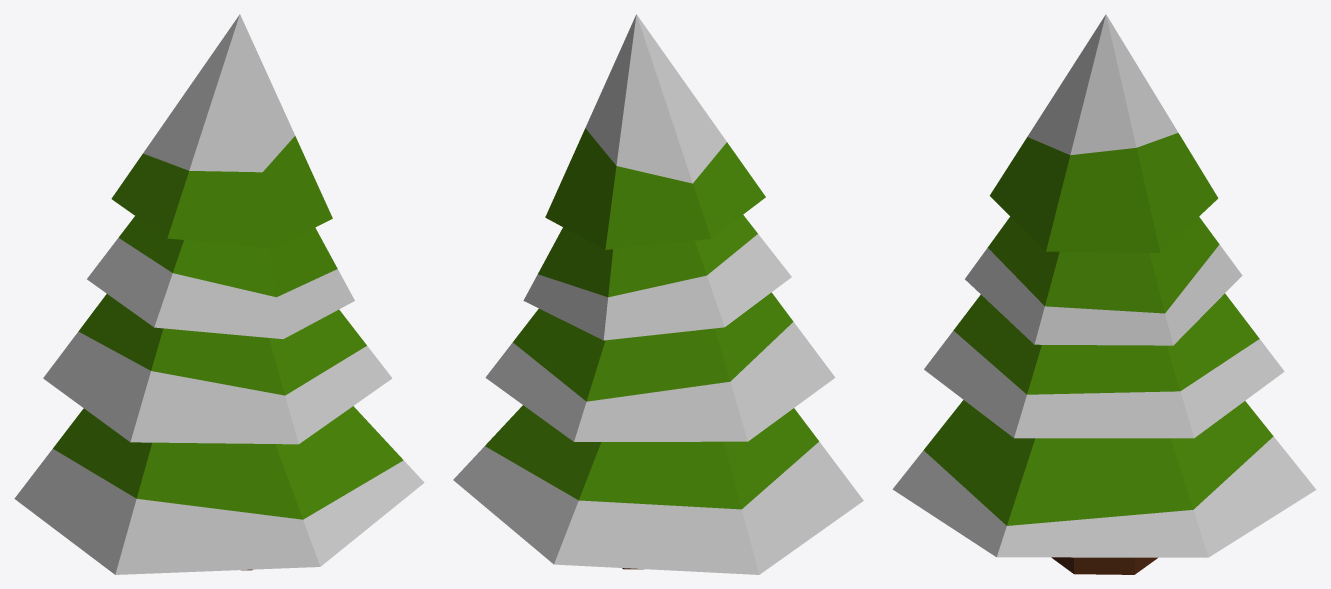
The model's file is PineTree2PartialSnow.fbx.
3 views of the same model, side by side, from view 1: azimuth 30°, elevation 25°; view 2: azimuth 150°, elevation 25°; view 3: azimuth 270°, elevation 25° (orthographic). The views are drawn at different scales.
Parts seen in each view (by area): view 1: Cylinder; view 2: Cylinder; view 3: Cylinder.
Part boxes in pixels (x1,y1,x2,y2): Cylinder: (14, 14, 424, 574); Cylinder: (453, 14, 863, 574); Cylinder: (892, 14, 1316, 574).
Size of the model in its own units: 3.96 by 6.48 by 4.55.
